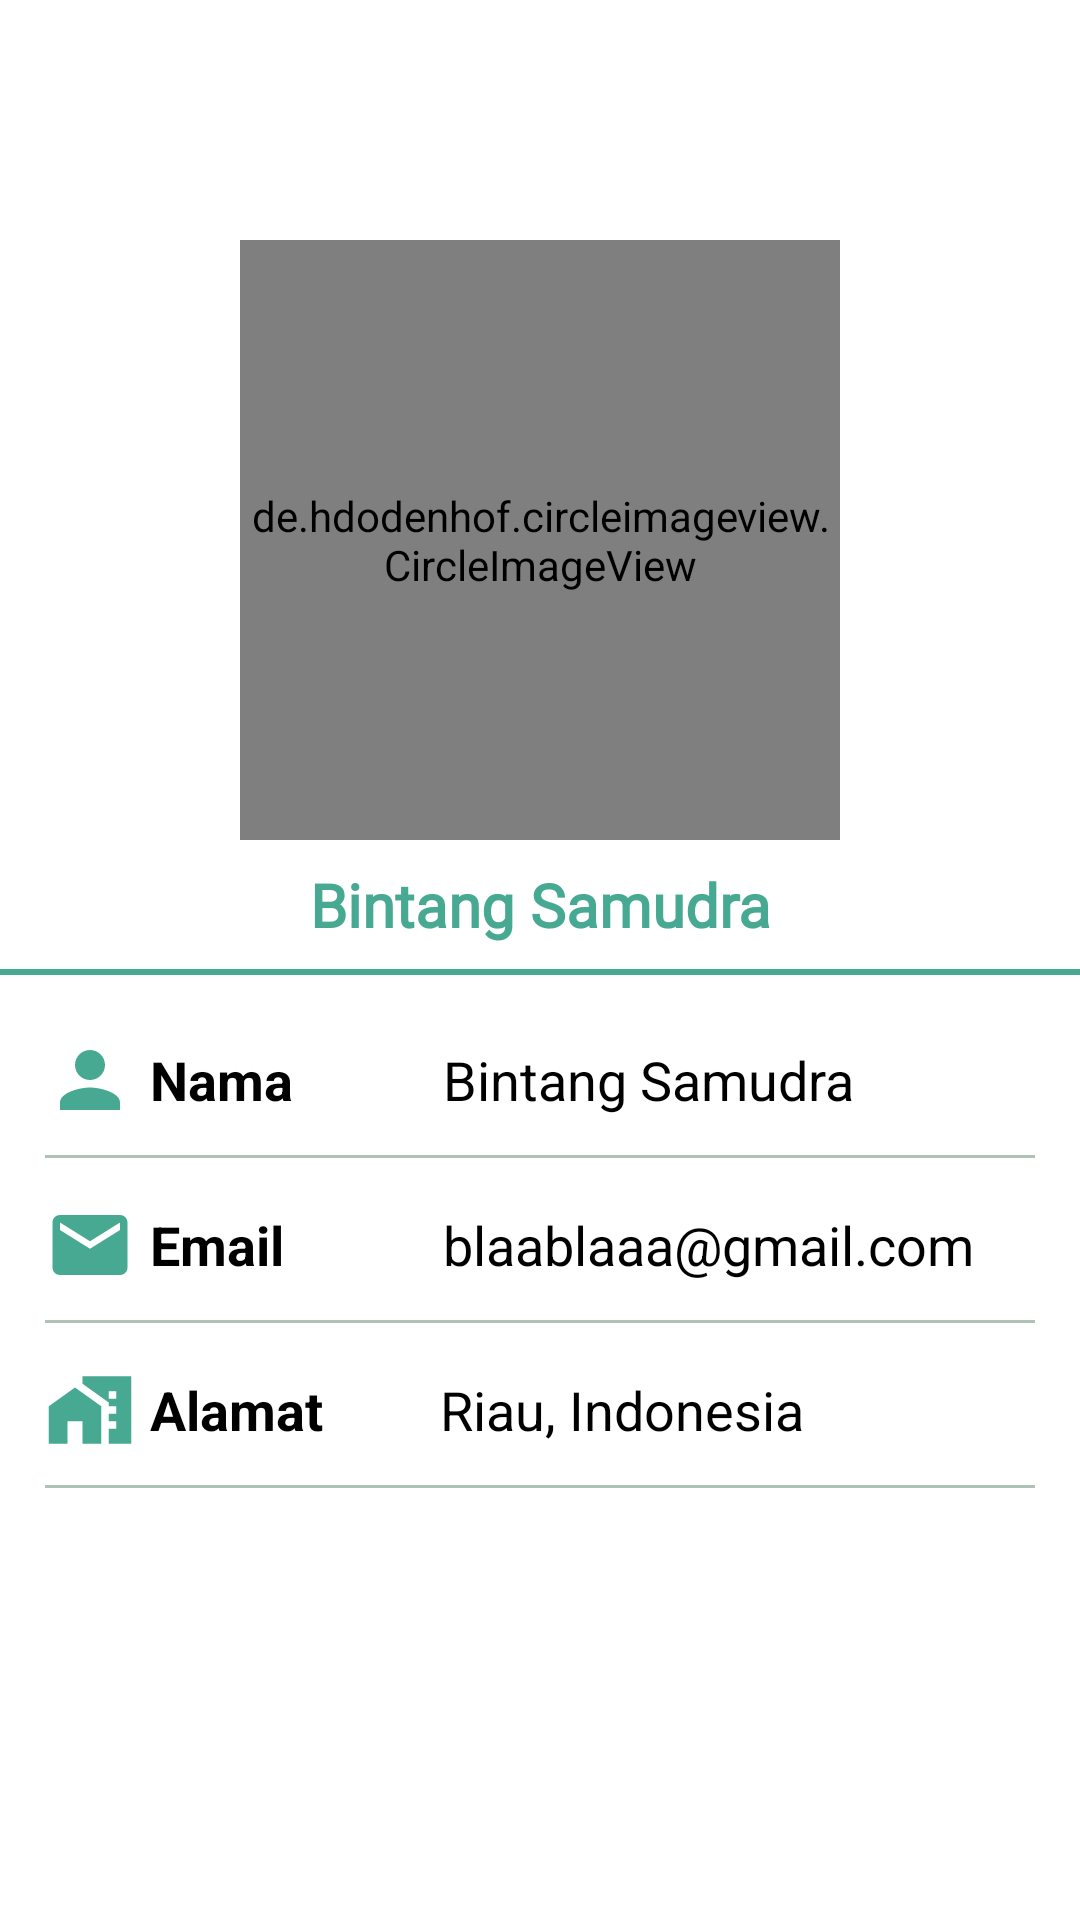

Icons on this 1080 x 1920 Android screen, each with its box as (x1, y1, x2, y2):
adress: (48, 1376, 132, 1444)
person: (60, 1050, 120, 1110)
